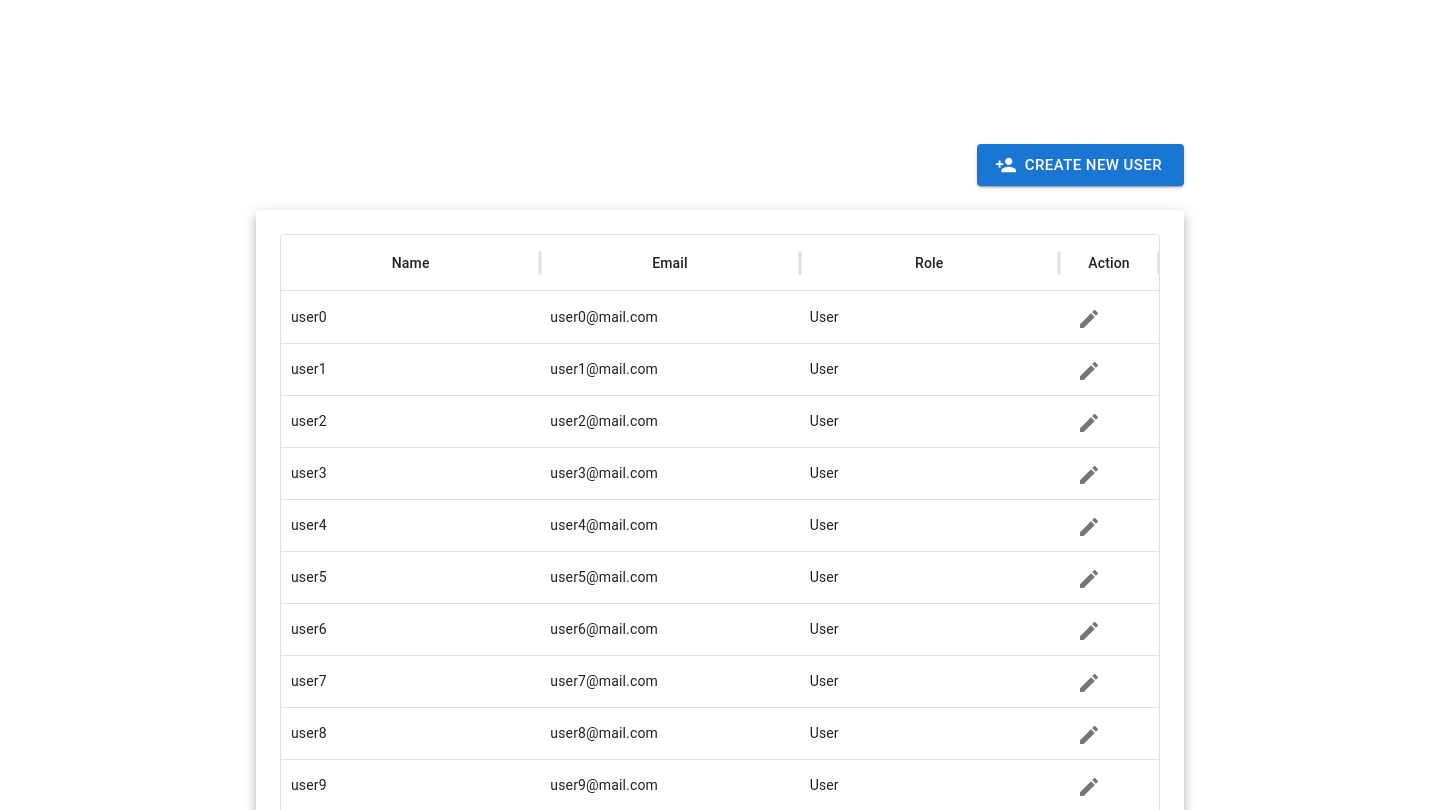
Test: UserManagement › should reload table when create user success
This screenshot has width=1440, height=810.
Click the button with test id "create-user-button" at x=1080, y=165, box [977, 144, 1184, 186]
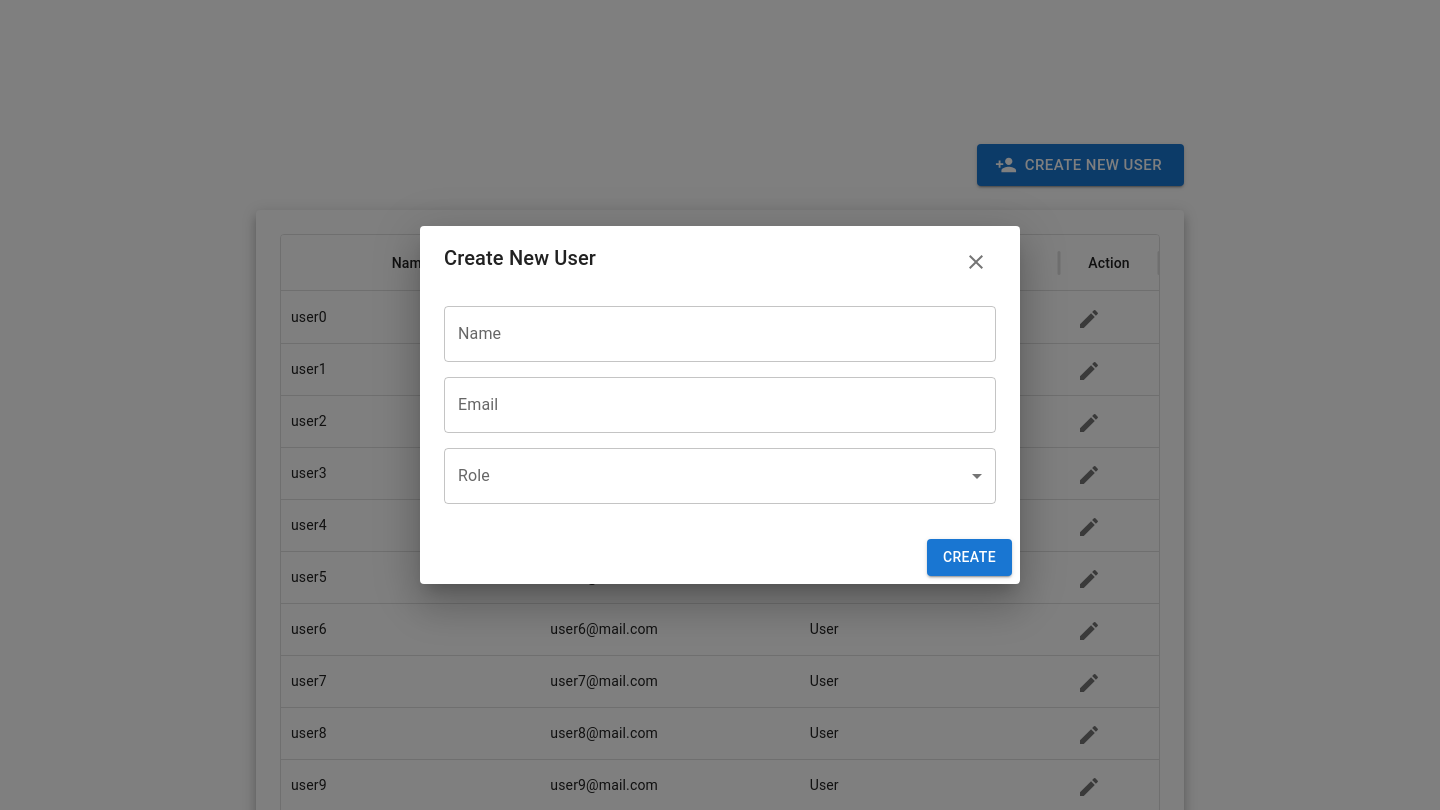
Now the element with test id "user-create-dialog" is shown
Type "username" into the field with test id "user-create-name-input" at x=720, y=334, box [444, 306, 996, 362]
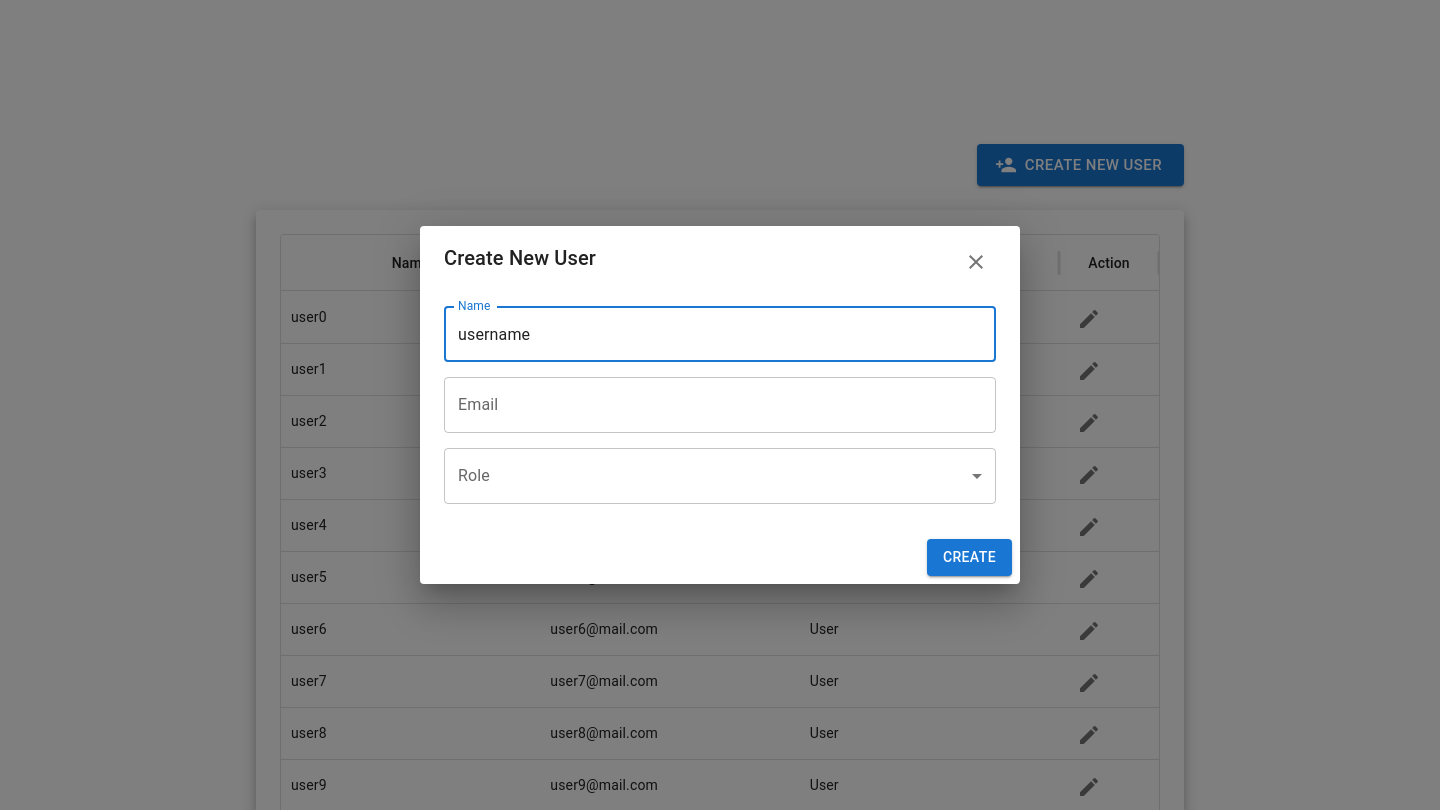
Type "mock@email.com" into the field with test id "user-create-email-input" at x=720, y=405, box [444, 377, 996, 433]
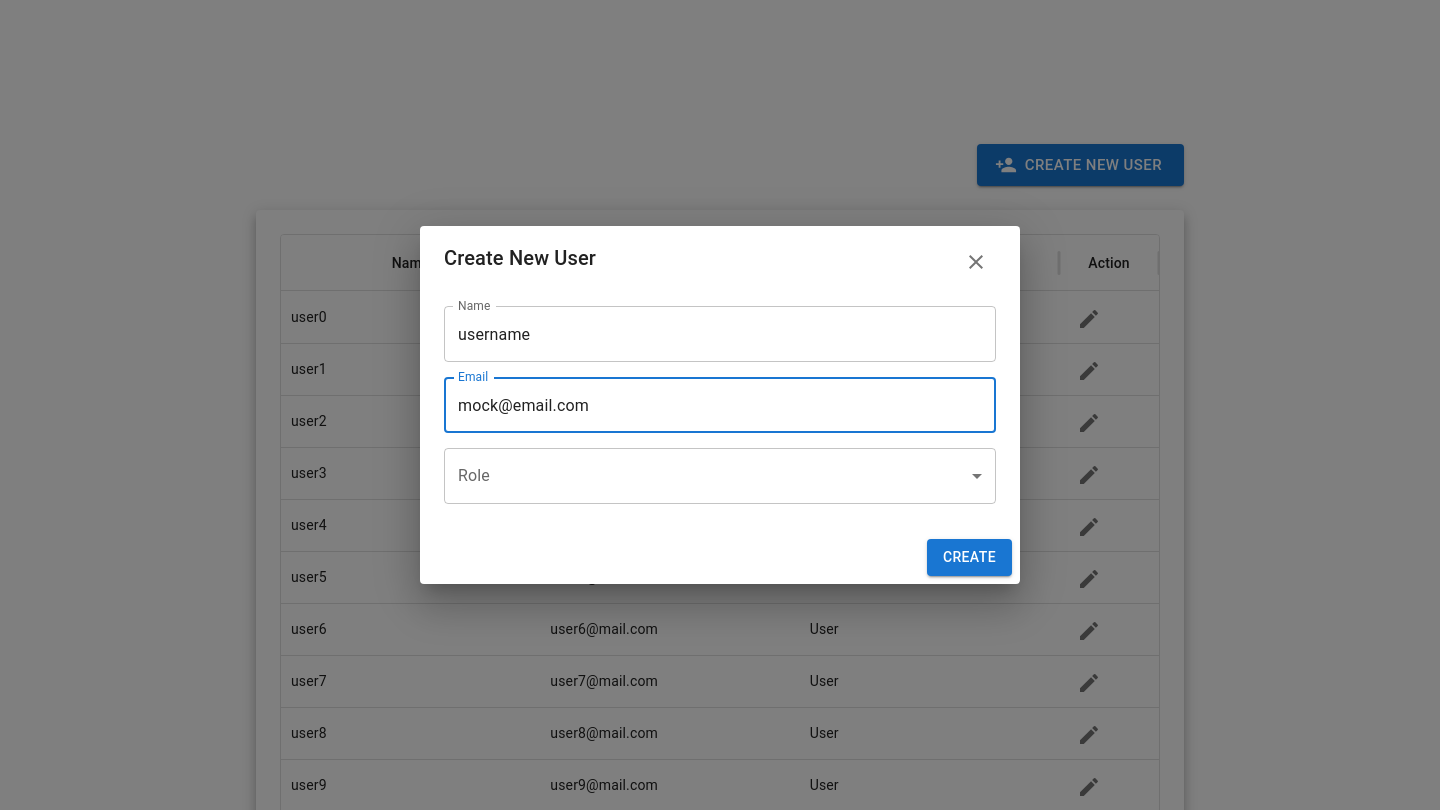
Click the dropdown with test id "user-create-role-select" at x=720, y=476, box [444, 448, 996, 504]
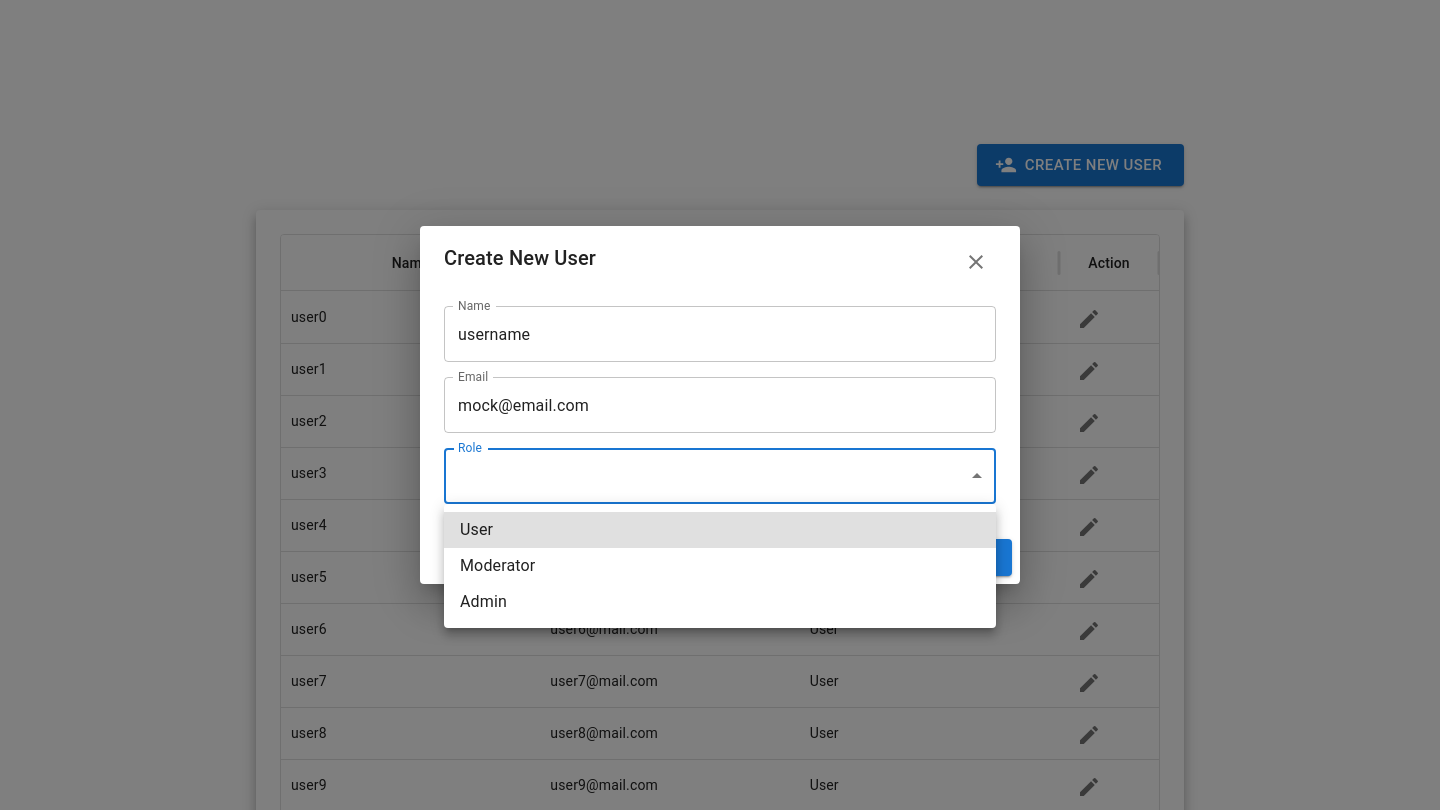
Click the option with test id "user-create-role-select-item-0" at x=477, y=530, box [444, 512, 996, 548]
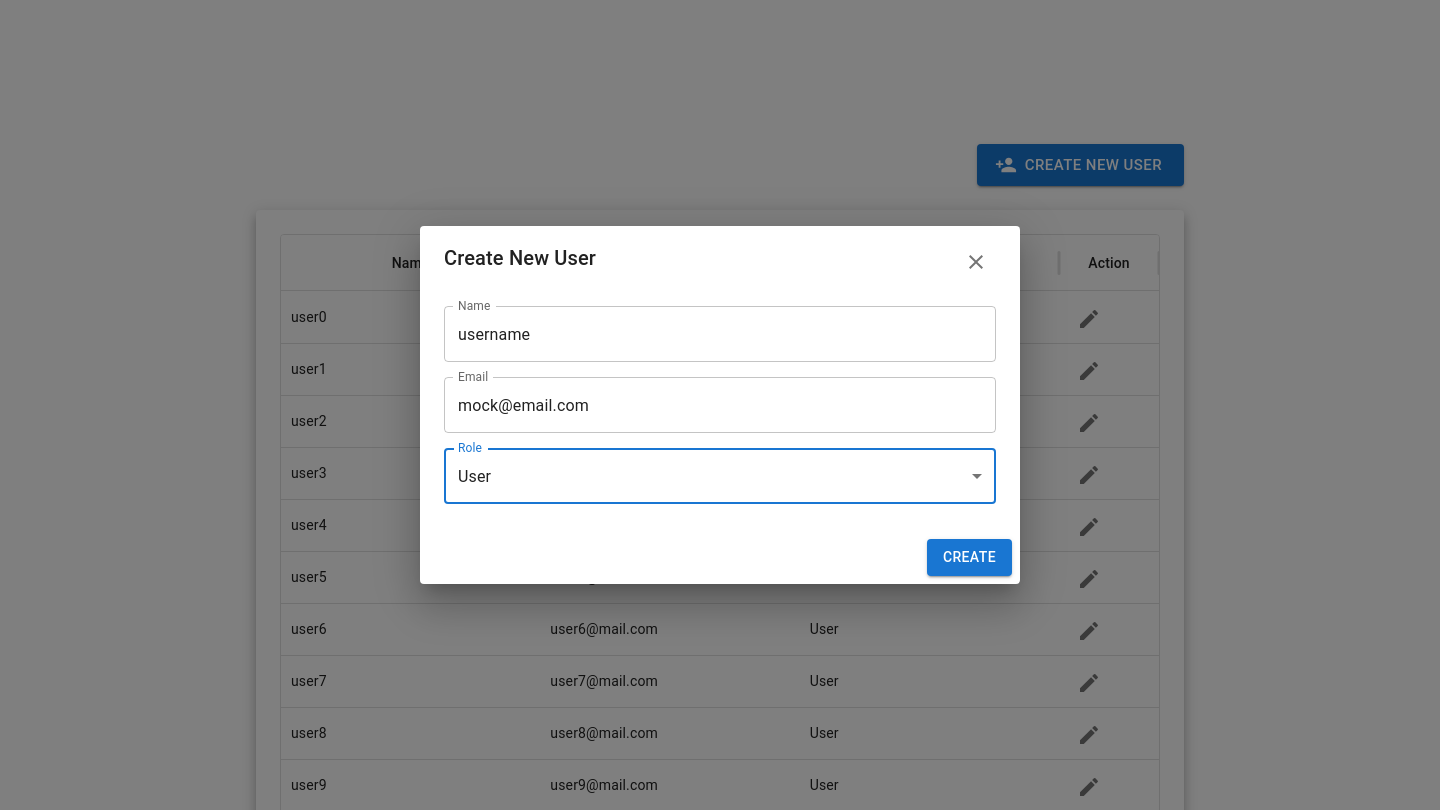
Click the button with test id "user-create-confirm-button" at x=969, y=558, box [927, 539, 1012, 576]
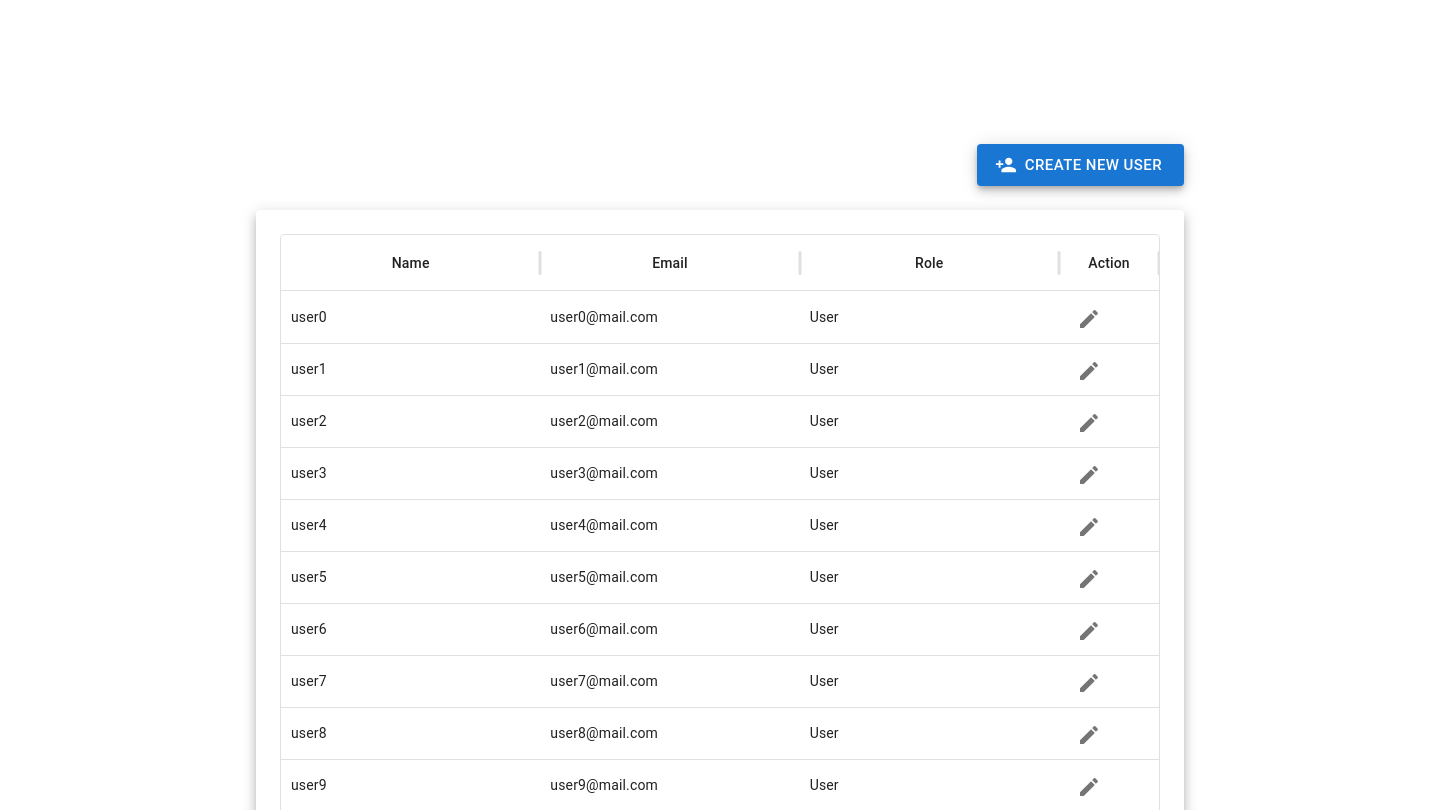
Now the element with test id "user-create-dialog" is gone
